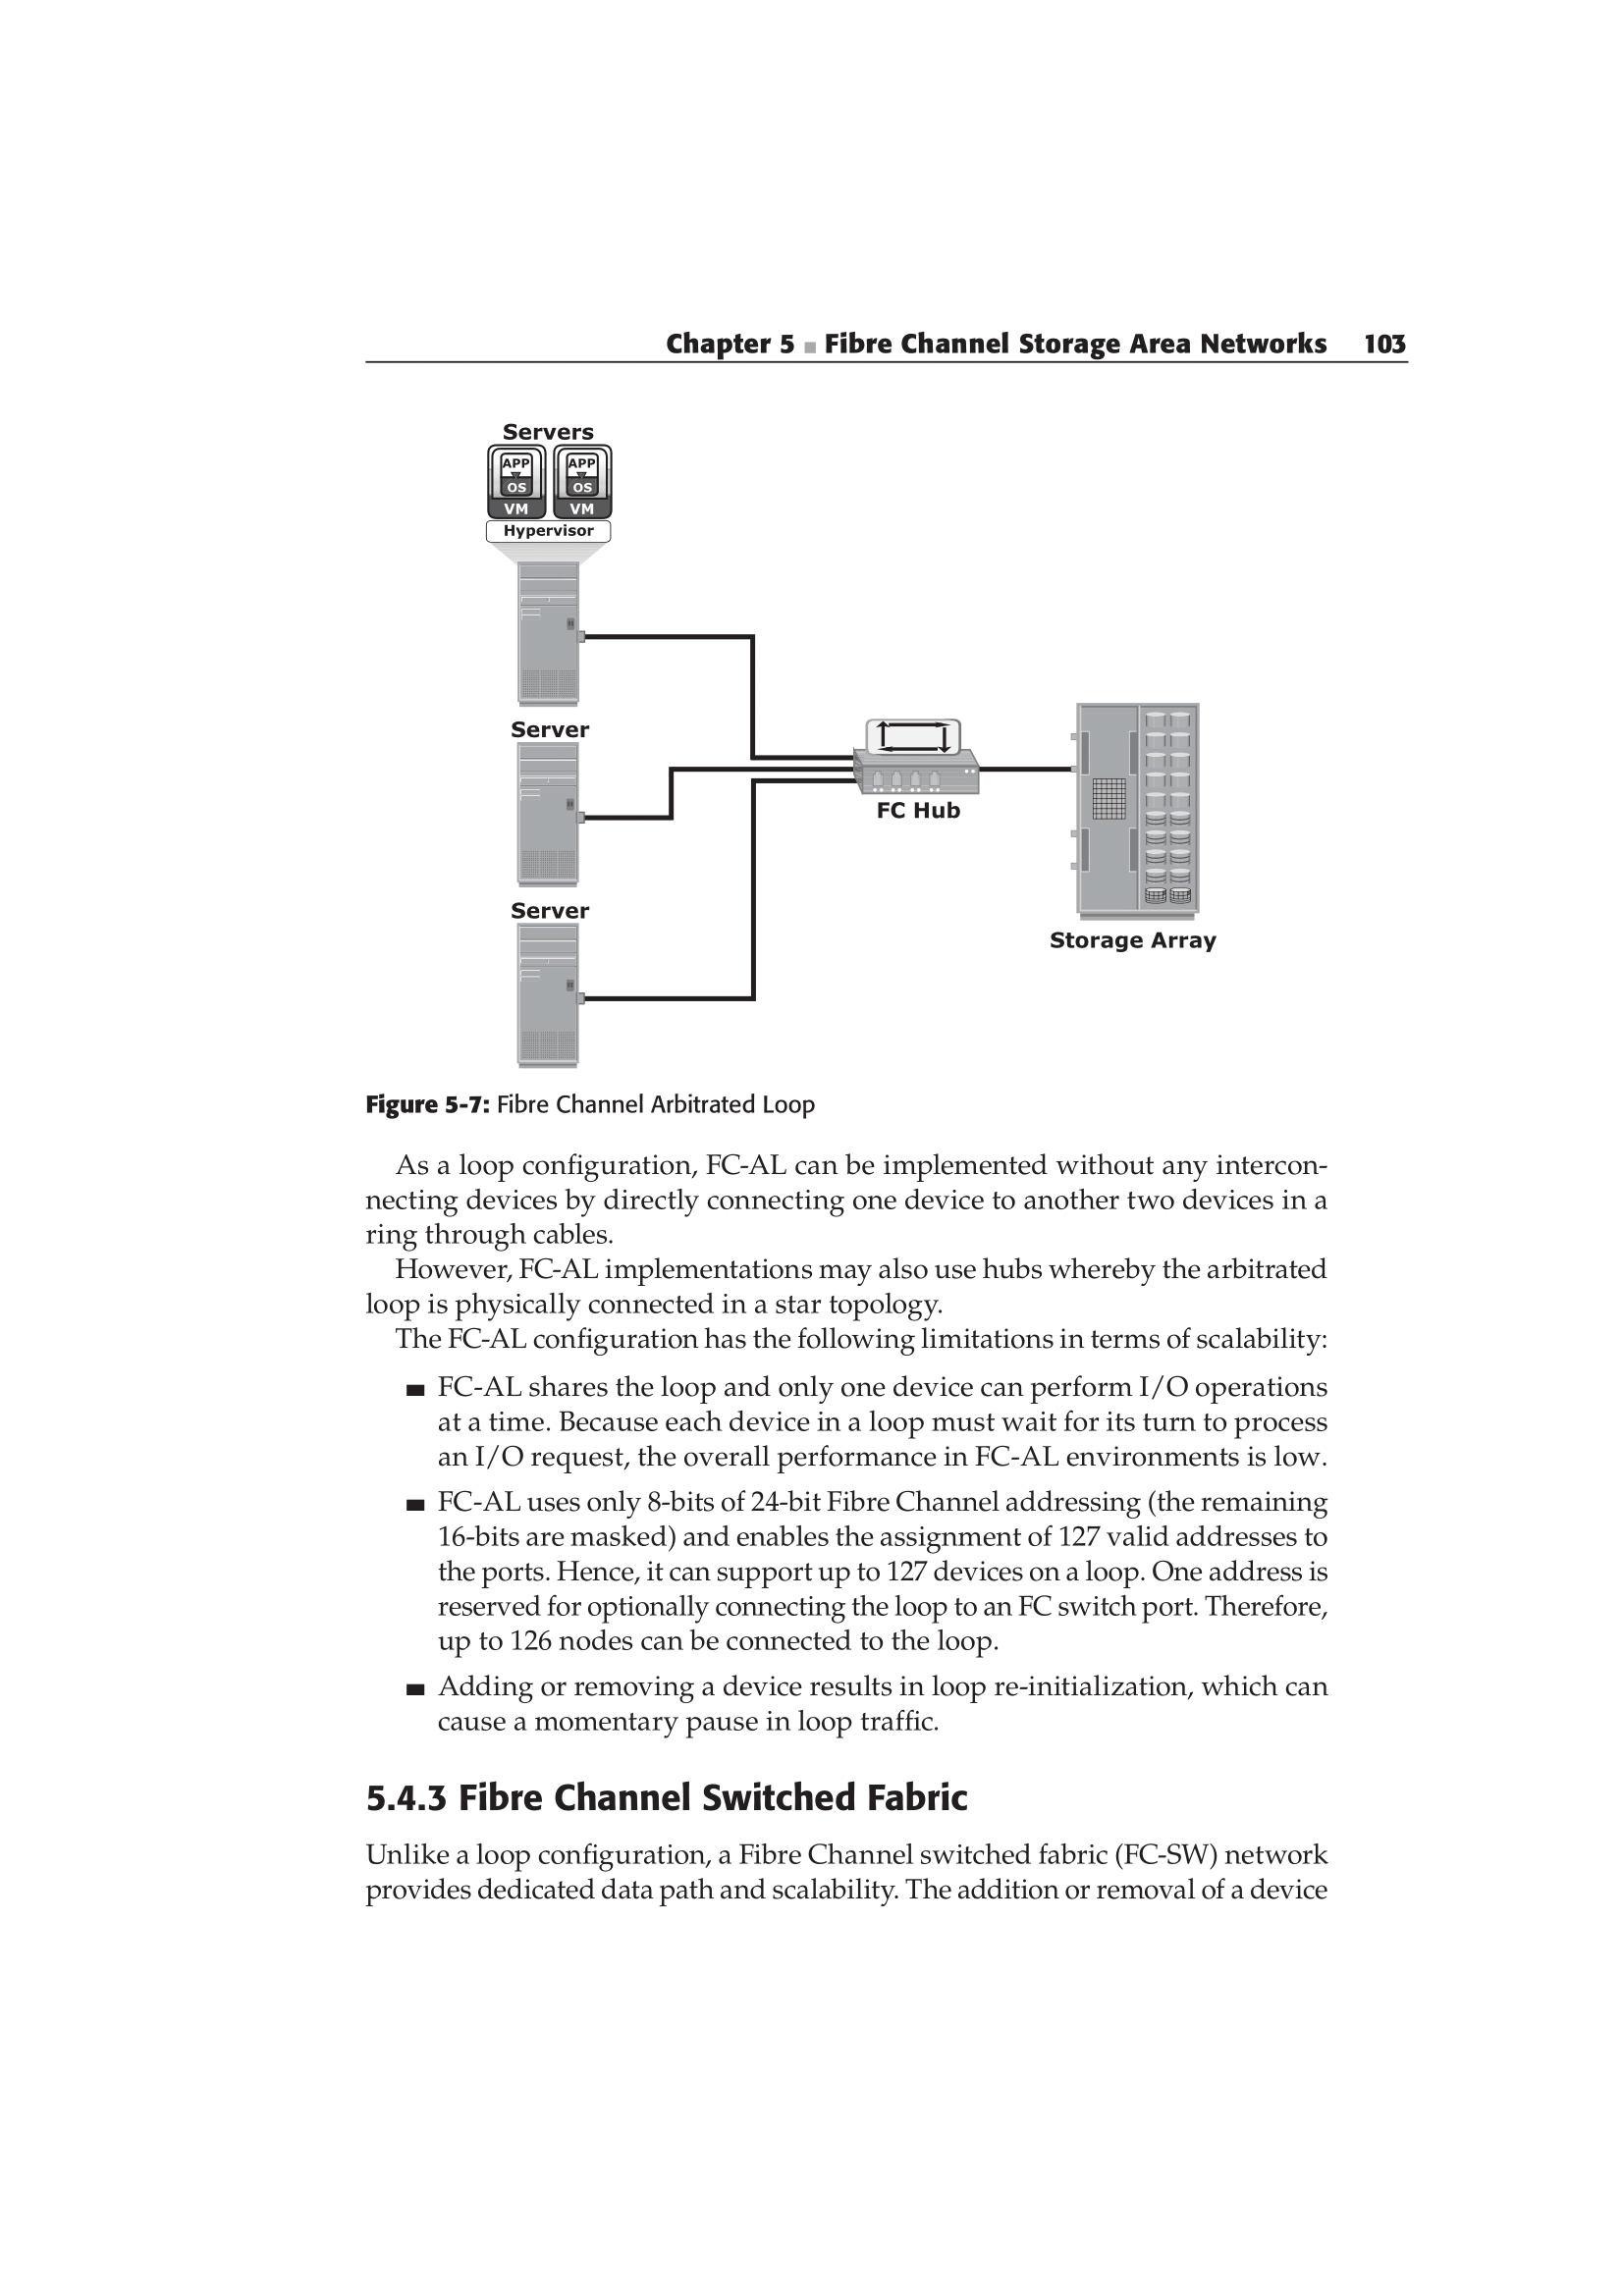Image: (462, 397, 1251, 1073)
Paragraph: (430, 1482, 1333, 1654), (353, 1146, 1333, 1253), (430, 1364, 1333, 1473), (434, 1666, 1331, 1745), (350, 1840, 1333, 1906), (360, 1257, 1333, 1322), (653, 302, 1416, 360), (378, 1324, 1342, 1362), (337, 1064, 854, 1136), (348, 1773, 984, 1815)
